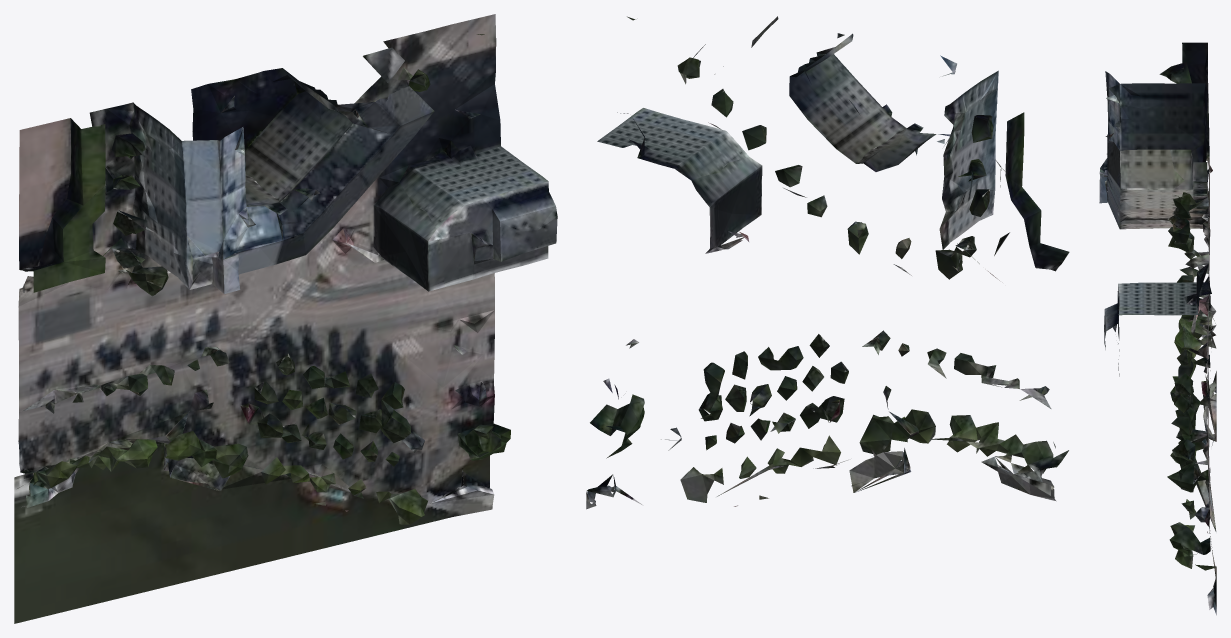
The model's file is Tile_+036_+024_L17_0003.glb.
3 renders of one model, left to right at view 1: azimuth 30°, elevation 25°; view 2: azimuth 150°, elevation 25°; view 3: azimuth 270°, elevation 25°, orthographic. The views are drawn at different scales.
Size of the model in its own units: 126 by 126 by 32.13.
Materials: 1 (1 with a texture image).
